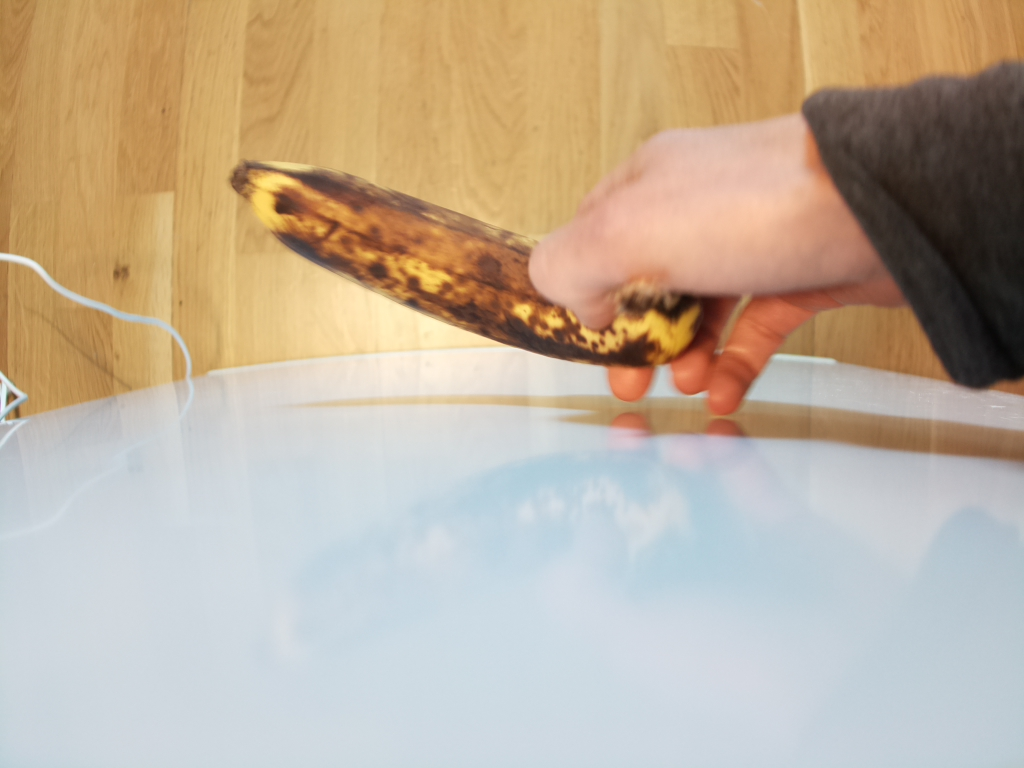banana-overripe: (229, 156, 703, 366)
